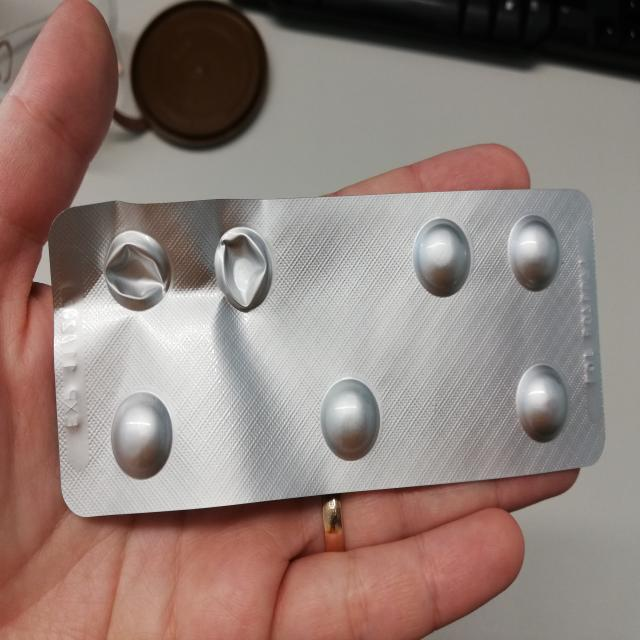Empty: (94, 224, 178, 319), (204, 220, 282, 318)
Pill: (106, 385, 180, 487), (311, 370, 386, 467), (407, 209, 479, 302), (510, 352, 576, 450), (503, 208, 565, 296)
